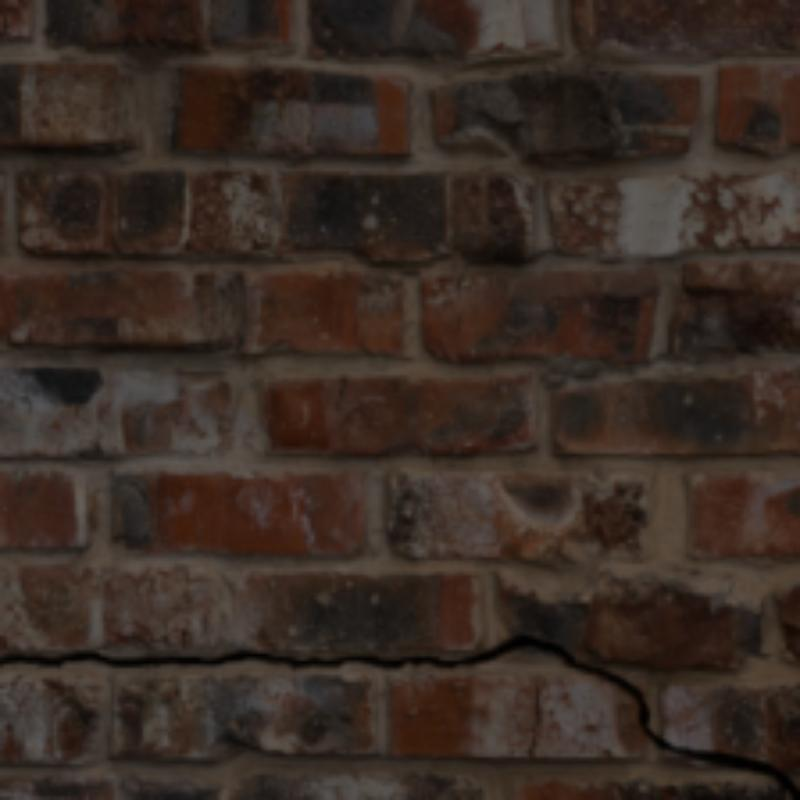pothole: (0, 636, 796, 796), (525, 682, 543, 757)
